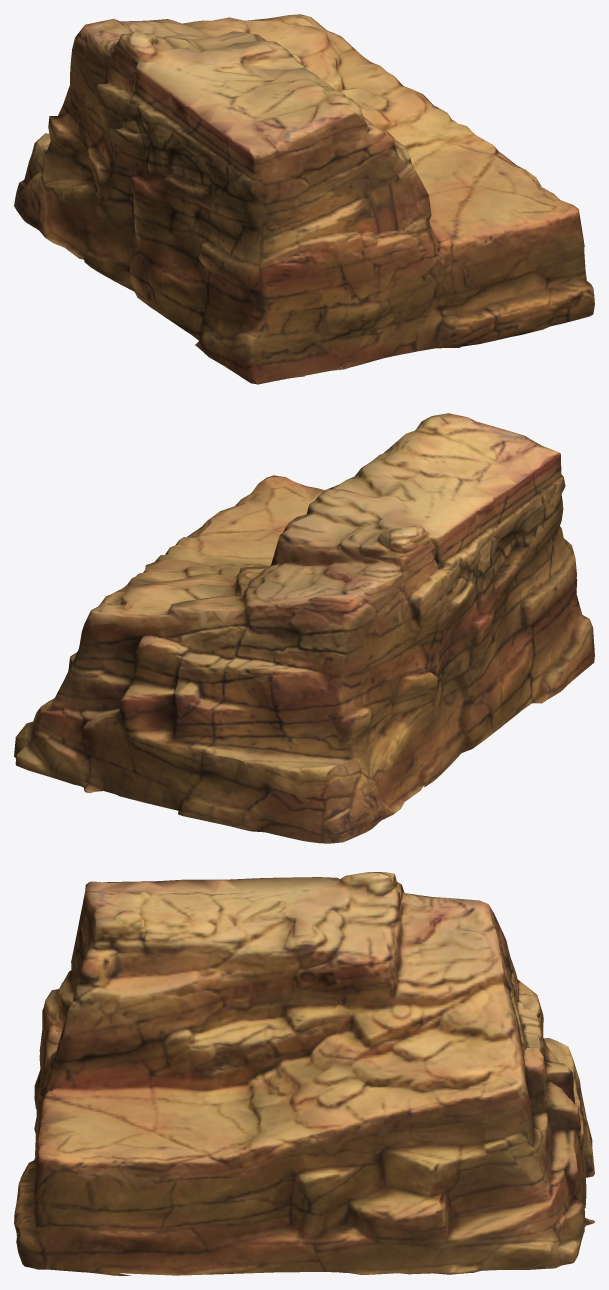
3 renders of one model, top to bottom at view 1: azimuth 30°, elevation 25°; view 2: azimuth 150°, elevation 25°; view 3: azimuth 270°, elevation 25°, orthographic. The views are drawn at different scales.
Parts seen in each view (by area): view 1: default_group (×2); view 2: default_group (×2); view 3: default_group (×2).
Part boxes in pixels (x1,y1,x2,y2): default_group (×2): [14, 14, 594, 384]; default_group (×2): [14, 413, 594, 843]; default_group (×2): [14, 872, 594, 1275].
Size of the model in its own units: 60.41 by 81.73 by 38.07.
Materials: 5 (2 with a texture image).
